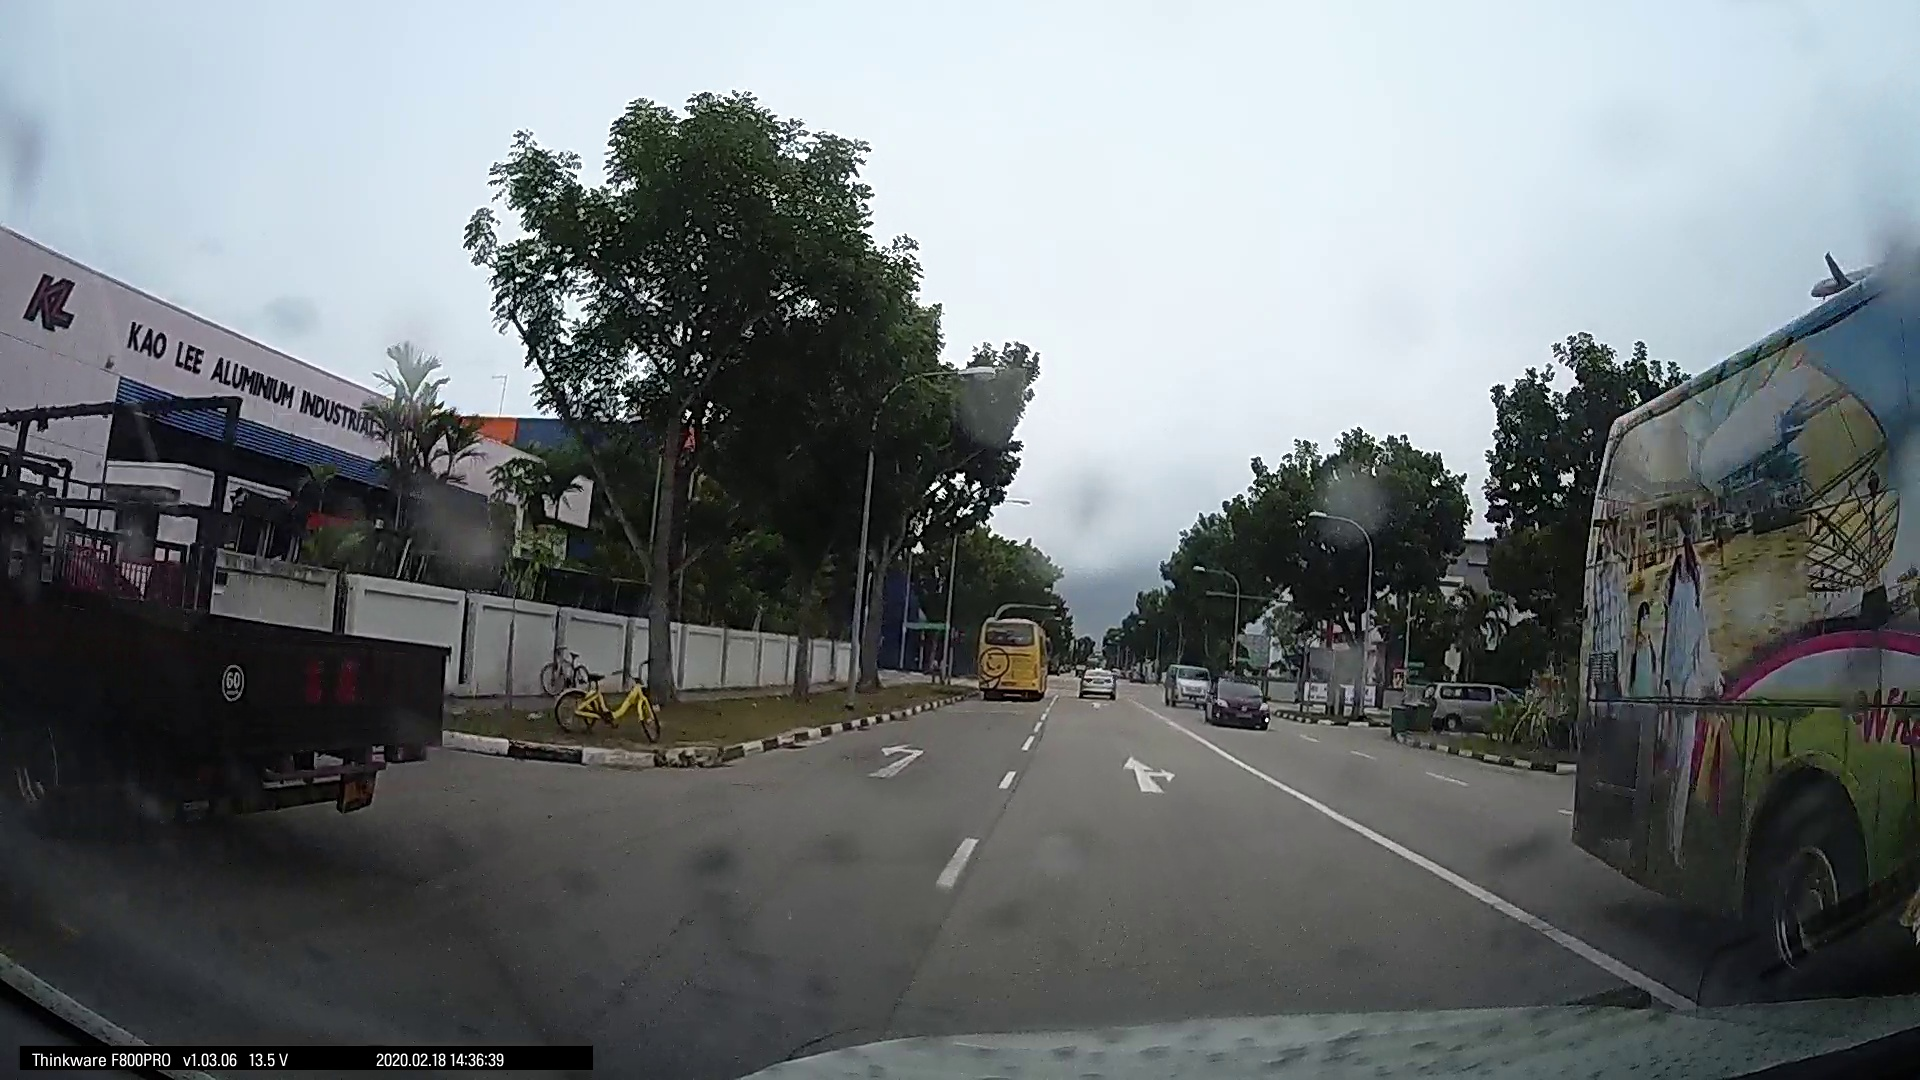Light Vehicle: (990, 636, 1160, 804), (1532, 654, 1698, 729), (1302, 649, 1433, 716), (508, 607, 615, 670), (618, 633, 723, 674), (802, 640, 895, 684)
